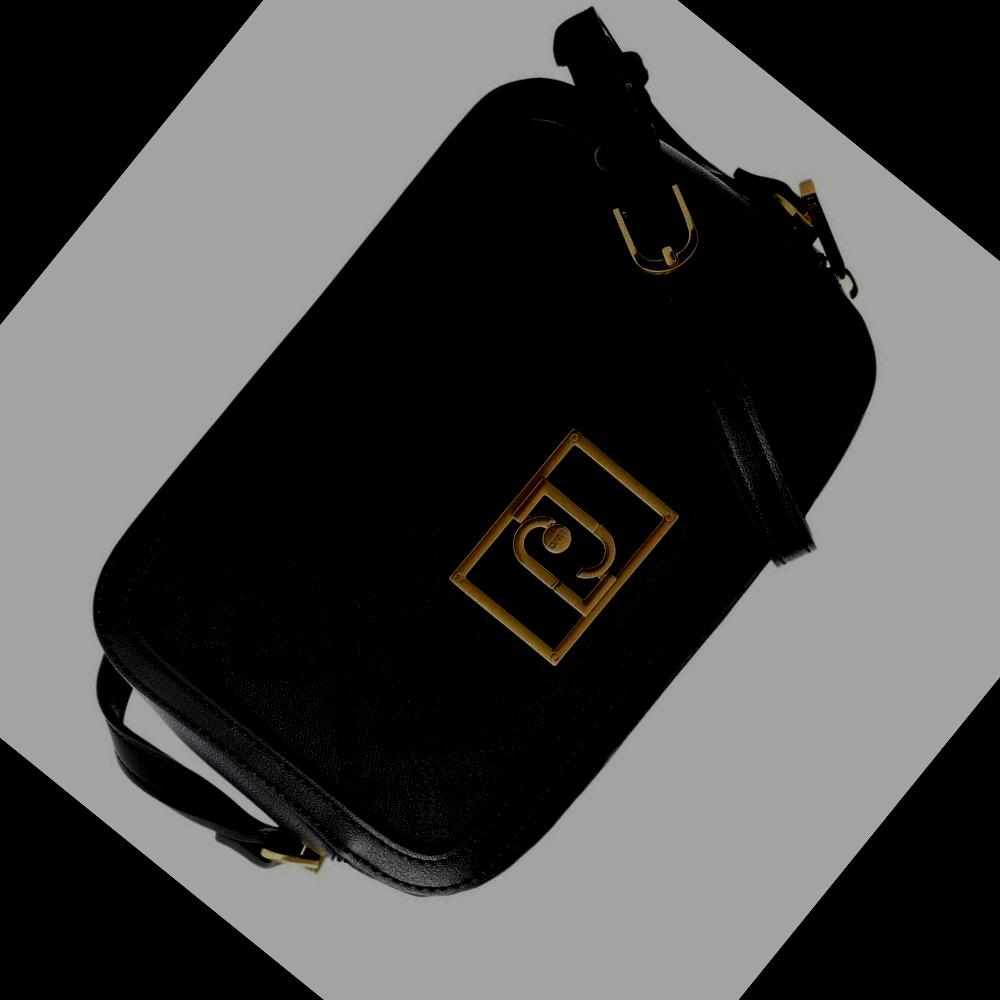LIU-JO: (490, 478, 636, 619)
